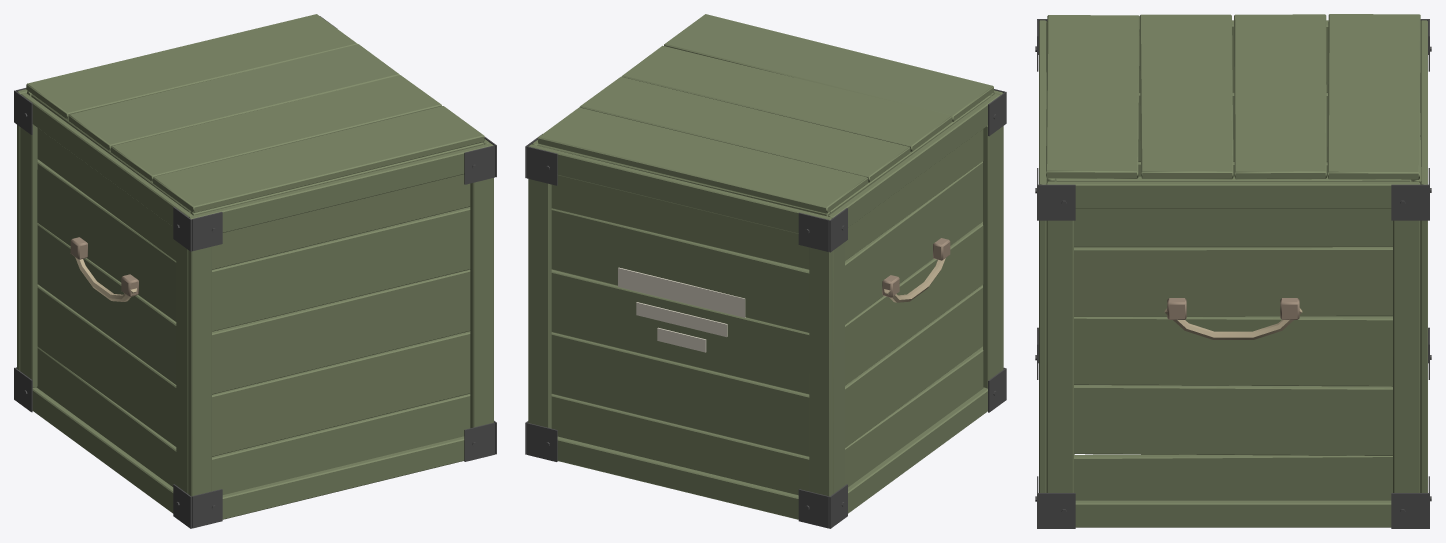
File: crate_army.glb
The picture shows the model from 3 angles, left to right: view 1: azimuth 30°, elevation 25°; view 2: azimuth 150°, elevation 25°; view 3: azimuth 270°, elevation 25°; orthographic projection. The views are drawn at different scales.
Visible parts, largest first — view 1: static; view 2: static; view 3: static.
Boxes of the visible parts, bbox=[...] form: static: bbox=[14, 14, 496, 528]; static: bbox=[525, 14, 1006, 528]; static: bbox=[1035, 14, 1431, 528].
Size of the model in its own units: 1.03 by 1 by 1.02.
